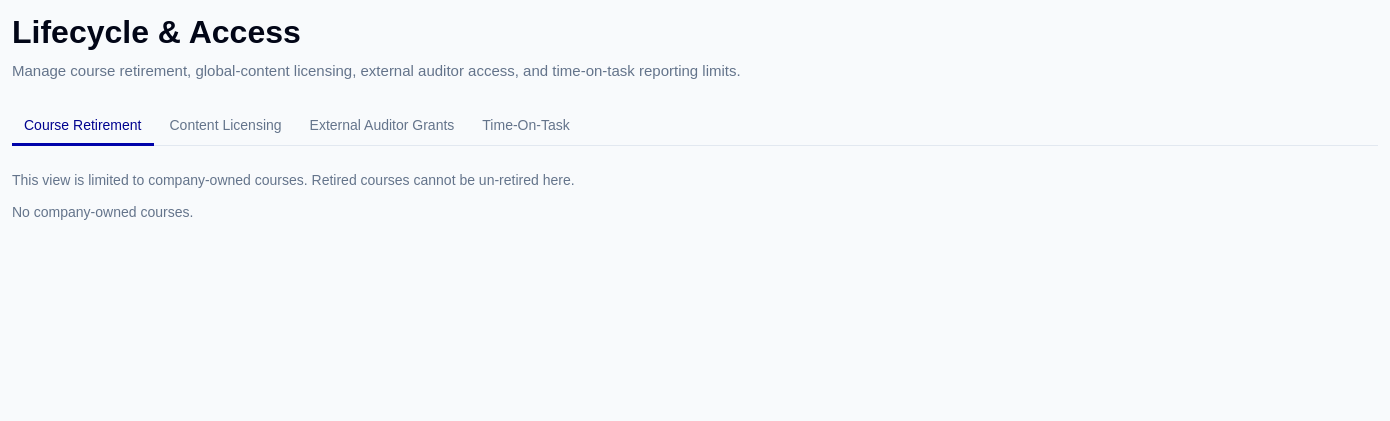
Test case: MhdLifecycleAccessAdminPage — External Auditor Grants › derives Active/Revoked/Expired status from real fields and hides Revoke once inactive
Click the tab "External Auditor Grants" at [382, 126], box 298,106 -> 466,146
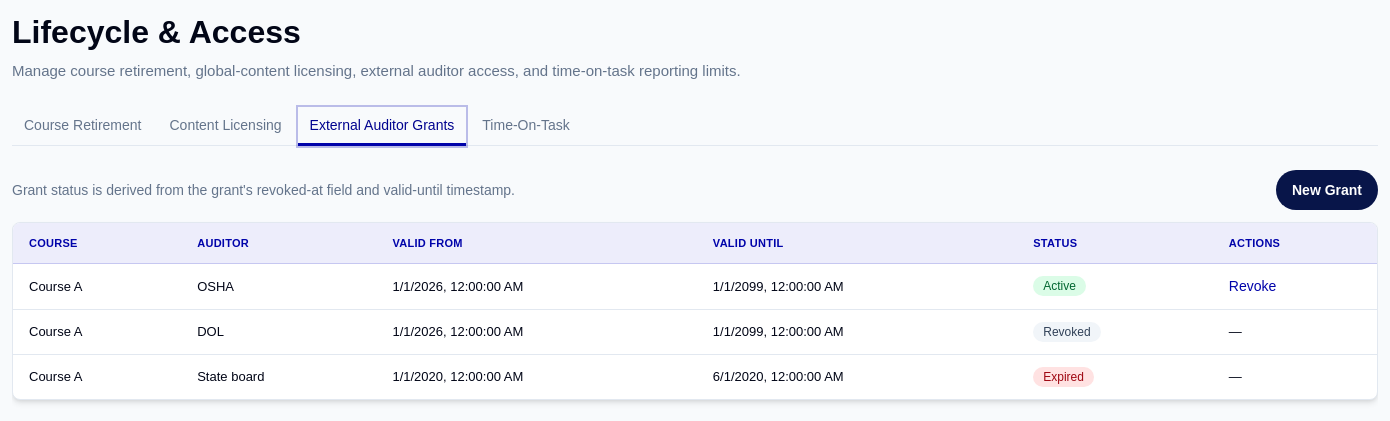
Expected: the text "Active" is shown, 1033,276 -> 1086,296
Expected: the button "Revoke" is shown, 1229,276 -> 1276,296
Expected: the text "Revoked" is shown, 1033,322 -> 1101,342
